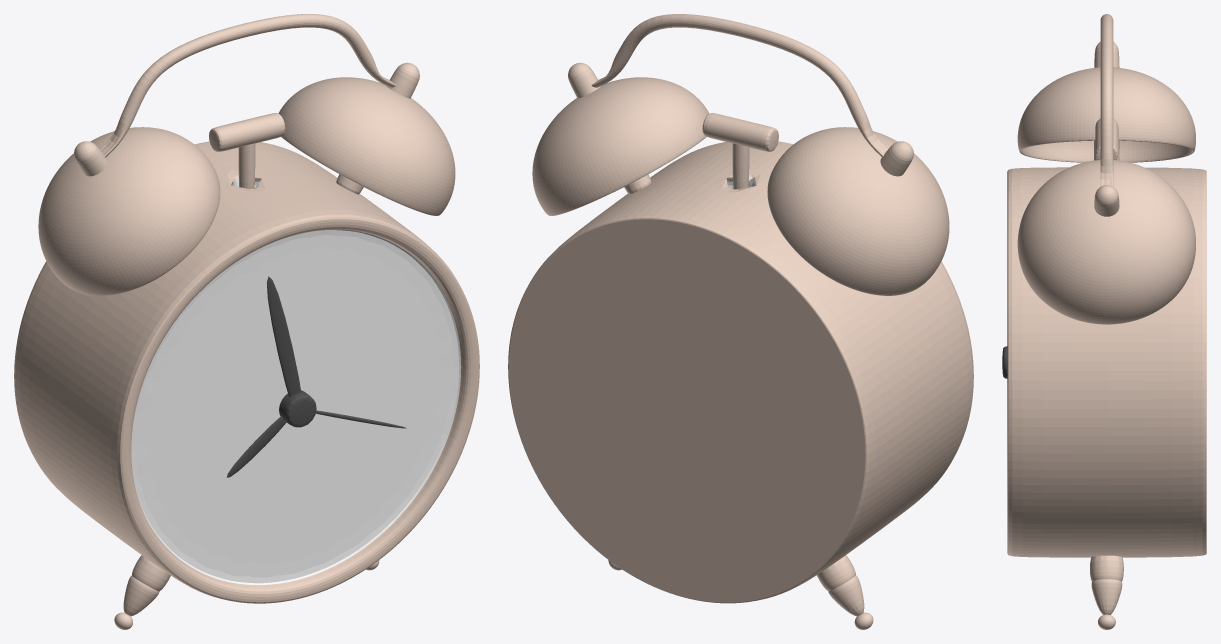
File: mezamashi.fbx
3 views of the same model, side by side, from view 1: azimuth 30°, elevation 25°; view 2: azimuth 150°, elevation 25°; view 3: azimuth 270°, elevation 25° (orthographic). The views are drawn at different scales.
Parts seen in each view (by area): view 1: Cylinder; view 2: Cylinder; view 3: Cylinder.
Boxes of the visible parts, left/top/right/bottom form: Cylinder: left=14, top=14, right=479, bottom=629; Cylinder: left=508, top=14, right=973, bottom=629; Cylinder: left=1002, top=14, right=1206, bottom=629.
Bounding box in the file's own units: 16.68 × 23.52 × 8.16.
